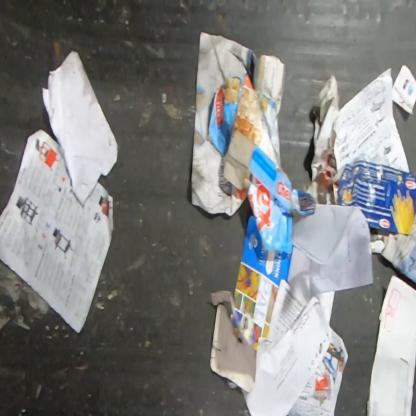cardboard: (208, 74, 317, 256), (208, 214, 292, 393), (337, 158, 416, 235), (390, 62, 415, 116)
